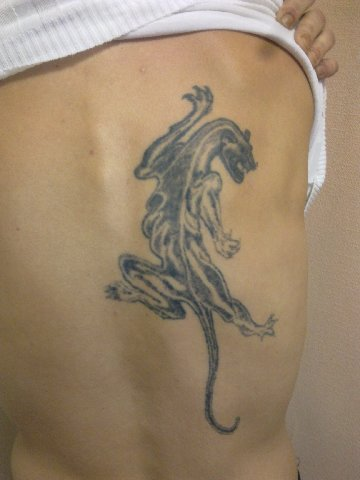tatu8_kot: (100, 74, 282, 439)
